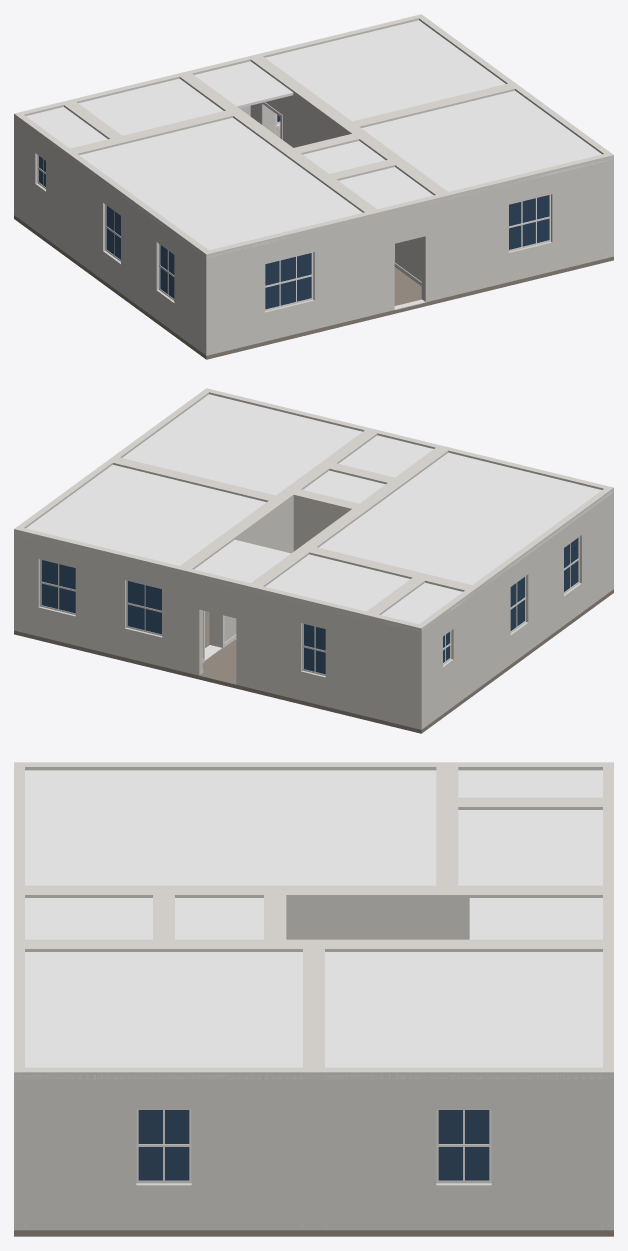
The model's file is interior-ground-v002.glb.
The picture shows the model from 3 angles, top to bottom: view 1: azimuth 30°, elevation 25°; view 2: azimuth 150°, elevation 25°; view 3: azimuth 270°, elevation 25°; orthographic projection. The views are drawn at different scales.
Visible parts, largest first — view 1: interior-ground-v002; view 2: interior-ground-v002; view 3: interior-ground-v002.
Part boxes in pixels (x1,y1,x2,y2): interior-ground-v002: (14,14,613,359); interior-ground-v002: (14,388,613,733); interior-ground-v002: (14,762,613,1236).
Bounding box in the file's own units: 13.2 × 3.26 × 10.8.
